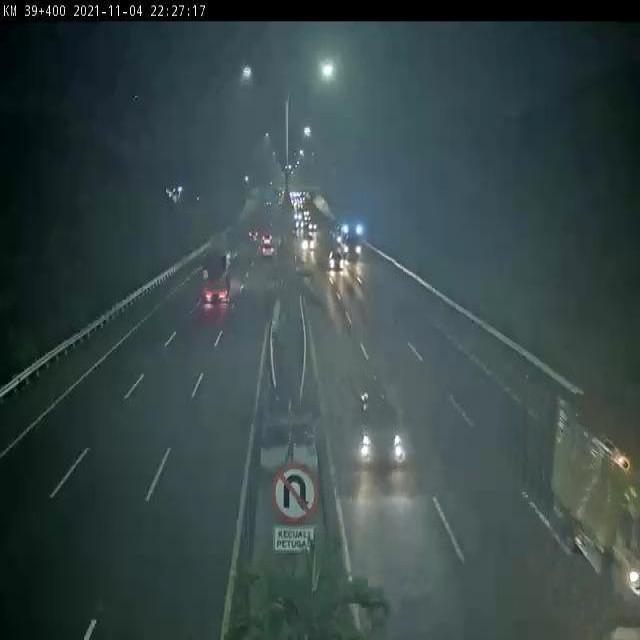car: (346, 372, 406, 469), (260, 240, 276, 259)
truck: (201, 248, 231, 303)
